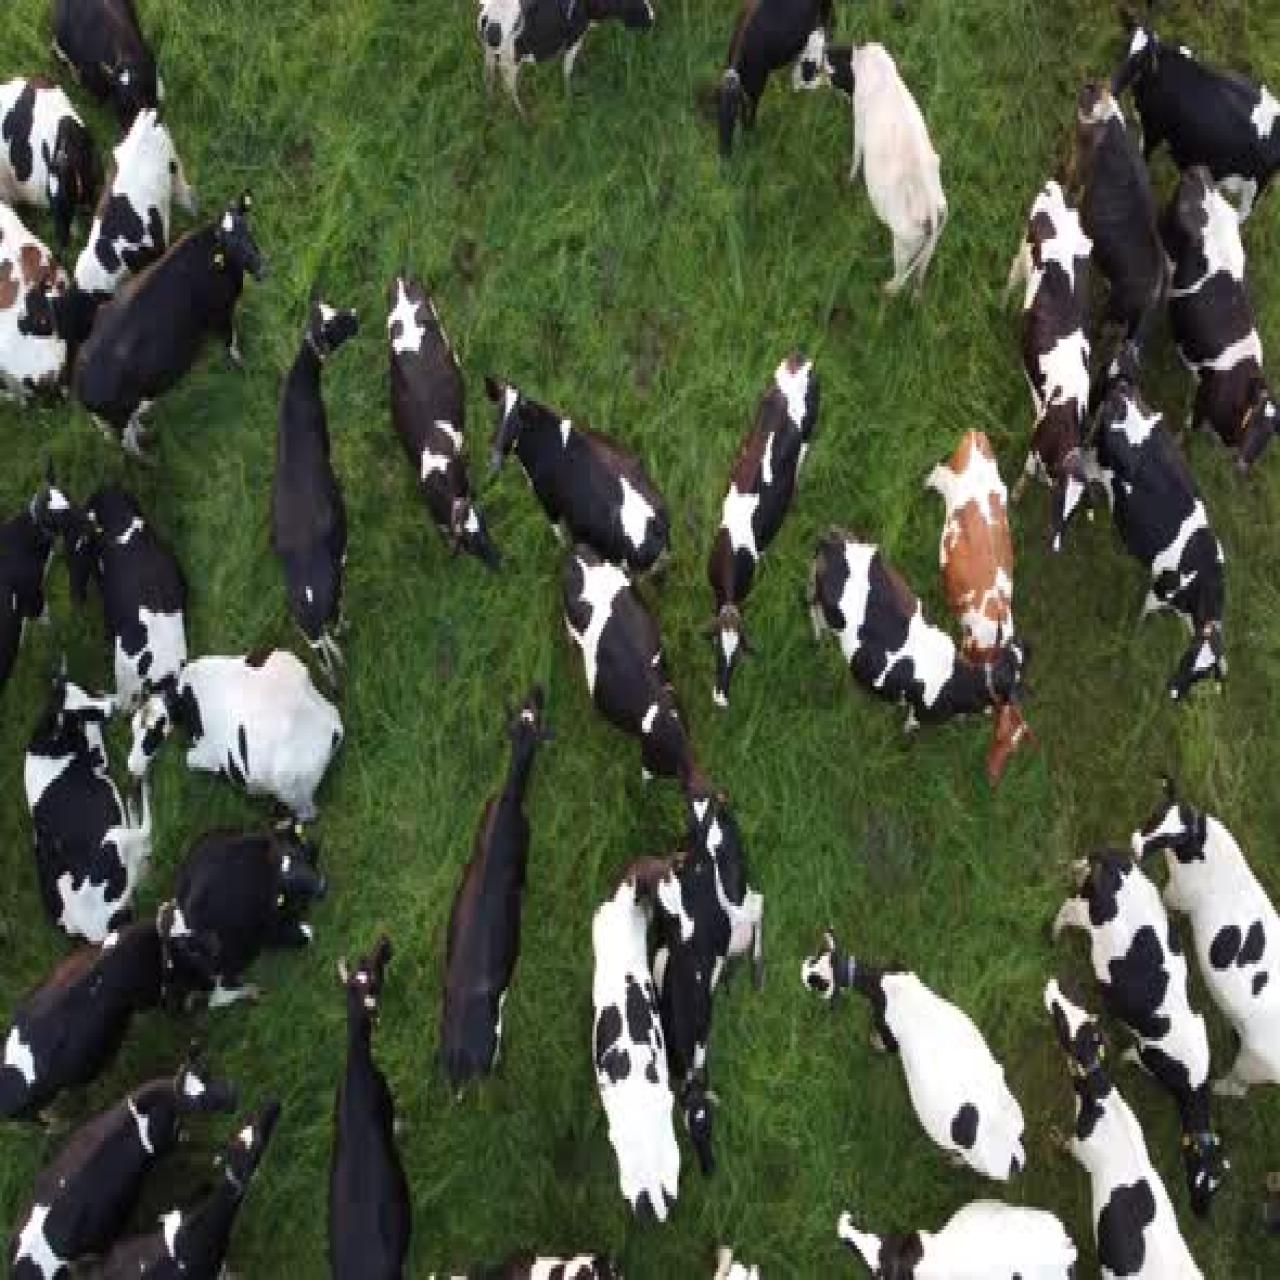cow: (1047, 843, 1245, 1219), (805, 887, 1030, 1199), (1062, 376, 1245, 717), (0, 1049, 258, 1272), (68, 203, 267, 482), (1132, 774, 1280, 1132), (1035, 971, 1205, 1280), (440, 655, 557, 1103), (682, 350, 818, 721), (654, 798, 779, 1198), (382, 252, 519, 615), (802, 525, 1019, 745), (27, 116, 203, 379), (919, 422, 1040, 795), (573, 846, 692, 1221), (272, 264, 373, 675), (308, 910, 417, 1280), (1143, 191, 1280, 481), (93, 1085, 293, 1280), (567, 563, 719, 819), (488, 390, 670, 598), (995, 175, 1094, 551), (1065, 52, 1163, 431), (1, 896, 175, 1098), (23, 668, 145, 940), (1117, 27, 1280, 220), (61, 485, 181, 729), (159, 816, 320, 982), (845, 38, 944, 290), (477, 0, 667, 109), (2, 39, 98, 246), (712, 0, 837, 143), (48, 0, 171, 134)
